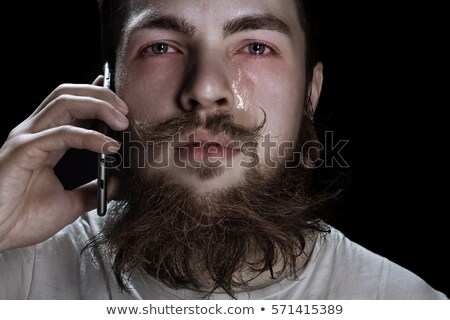phone: (80, 61, 122, 229)
talk: (5, 13, 303, 246)
